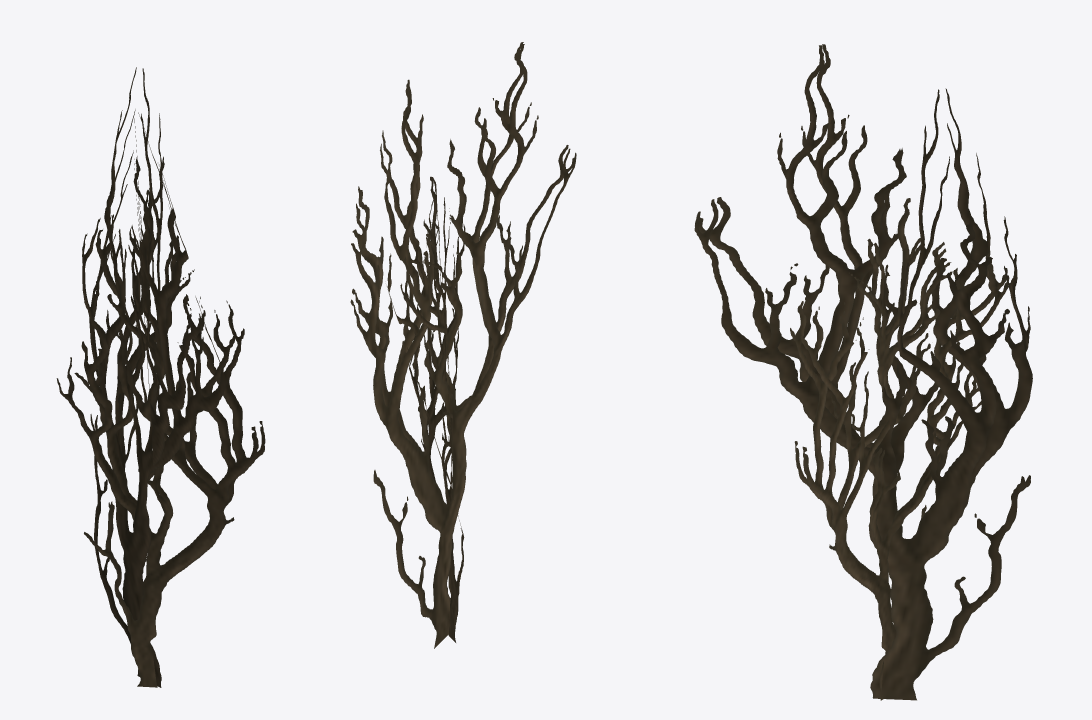
The model's file is shumu02.FBX.
3 views of the same model, side by side, from view 1: azimuth 30°, elevation 25°; view 2: azimuth 150°, elevation 25°; view 3: azimuth 270°, elevation 25° (orthographic). The views are drawn at different scales.
Visible parts, largest first — view 1: polySurface936; view 2: polySurface936; view 3: polySurface936.
Boxes of the visible parts, x1=… form: polySurface936: x1=56, y1=67, x2=265, y2=687; polySurface936: x1=350, y1=42, x2=576, y2=648; polySurface936: x1=694, y1=44, x2=1032, y2=700.
Size of the model in its own units: 14.58 by 46.29 by 29.82.
